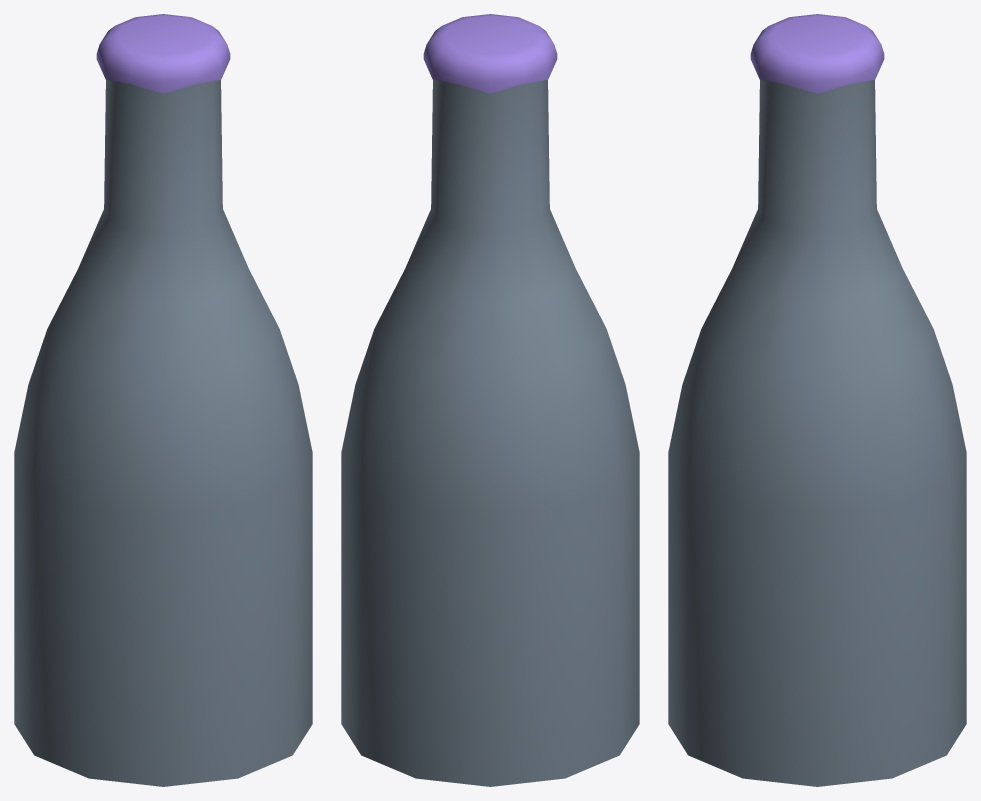
Rendered from Bottle.fbx.
The picture shows the model from 3 angles, left to right: view 1: azimuth 30°, elevation 25°; view 2: azimuth 150°, elevation 25°; view 3: azimuth 270°, elevation 25°; orthographic projection.
Visible parts, largest first — view 1: Bottle; view 2: Bottle; view 3: Bottle.
Boxes of the visible parts, x1,y1,x2,y2 form: Bottle: (14, 14, 312, 786); Bottle: (341, 14, 639, 786); Bottle: (668, 14, 966, 786).
Bounding box in the file's own units: 20 × 50.88 × 20.
